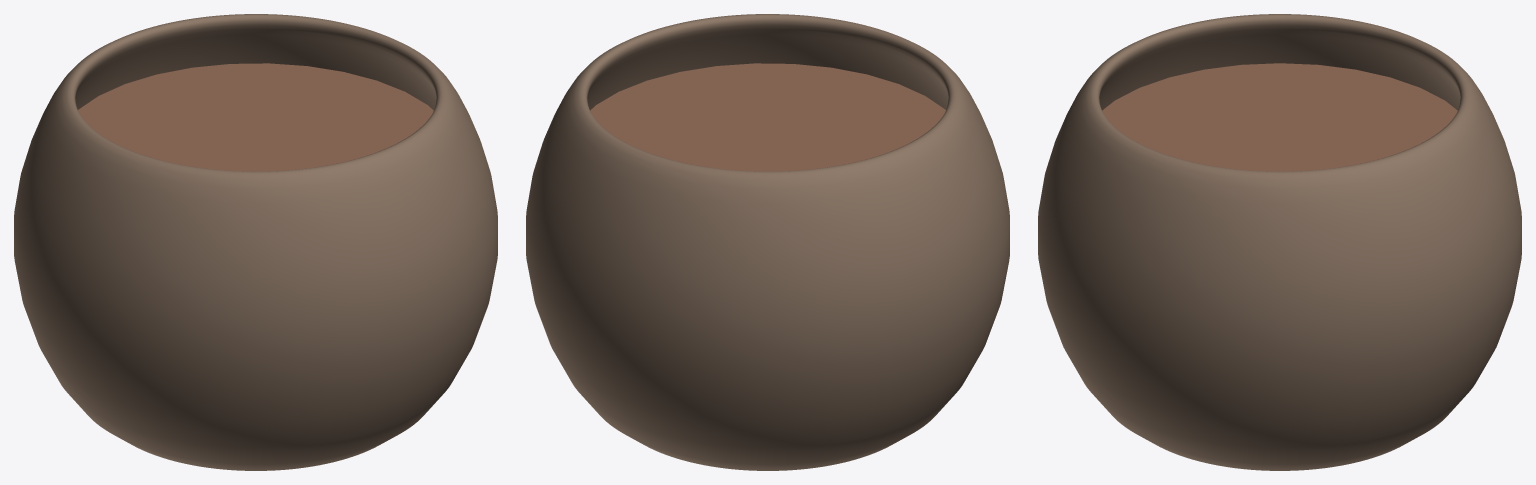
Rendered from round_brown.glb.
The picture shows the model from 3 angles, left to right: view 1: azimuth 30°, elevation 25°; view 2: azimuth 150°, elevation 25°; view 3: azimuth 270°, elevation 25°; orthographic projection.
Visible parts, largest first — view 1: Circle.004, Circle.005; view 2: Circle.004, Circle.005; view 3: Circle.004, Circle.005.
Part boxes in pixels (<box>): Circle.004: <box>14,14,497,470</box>; Circle.005: <box>78,63,433,171</box>; Circle.004: <box>526,14,1009,470</box>; Circle.005: <box>590,63,945,171</box>; Circle.004: <box>1038,14,1521,470</box>; Circle.005: <box>1102,63,1457,171</box>.
Size of the model in its own units: 13.78 by 10.23 by 13.78.
